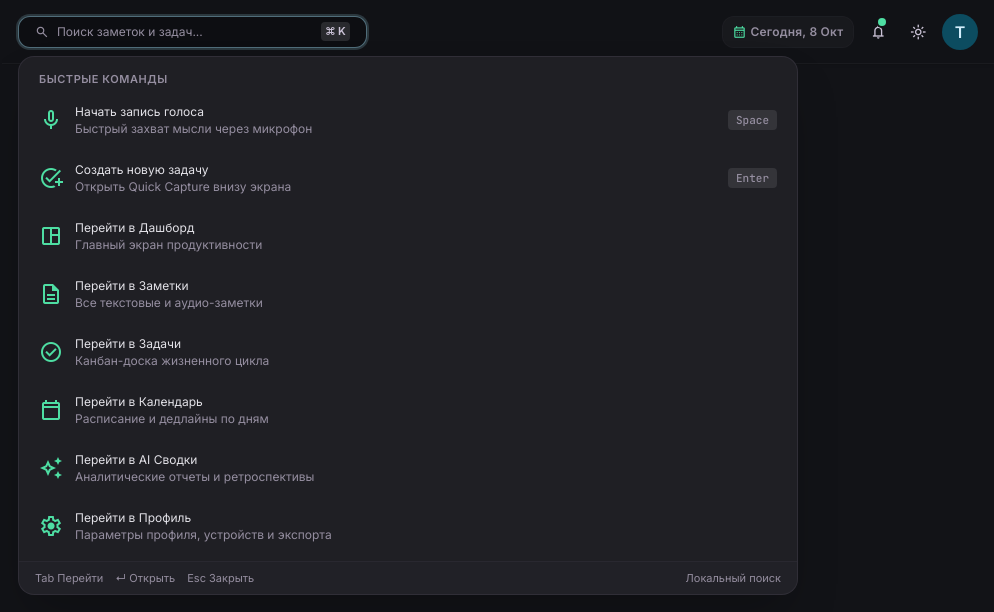
Scenario: CommandPaletteModal search behavior › shows a no-results message without clearing the query
Type "несуществующий-термин" into the dropdown.
click(185, 32); type("несуществующий-термин")  # box [57, 22, 313, 40]
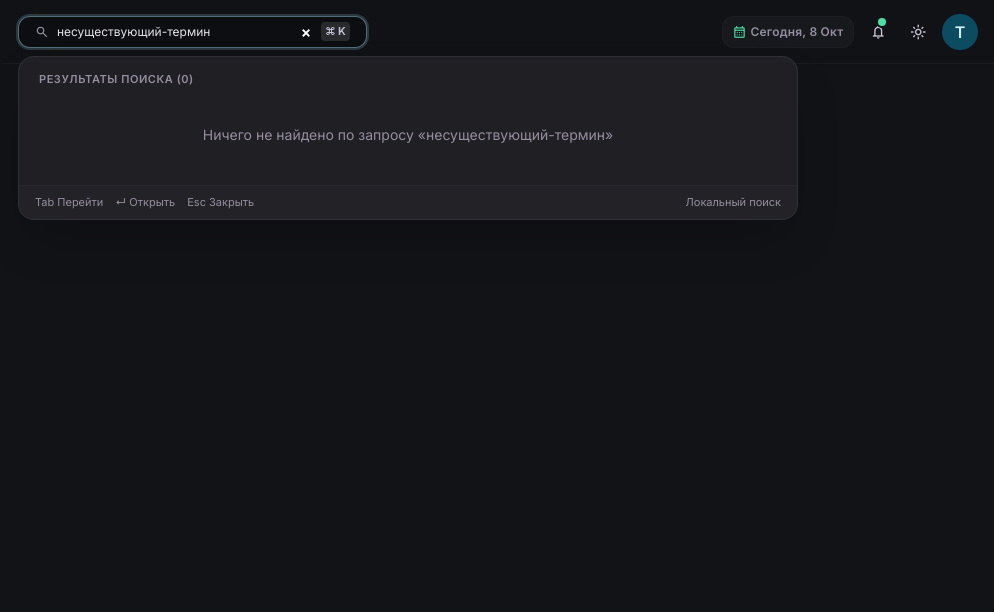
expect the message reads "Ничего не найдено по запросу «несуществующий-термин»": met, box [203, 126, 613, 143]
